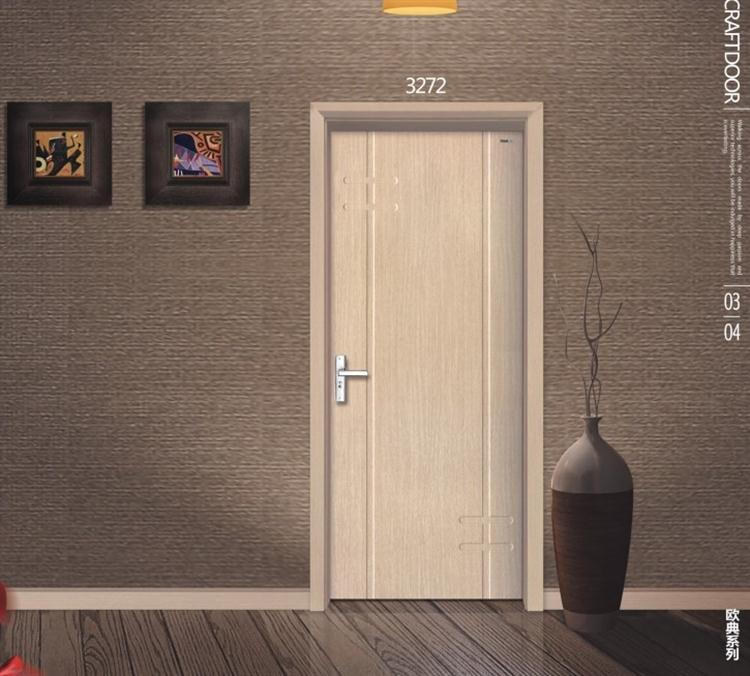door: (326, 119, 529, 602)
